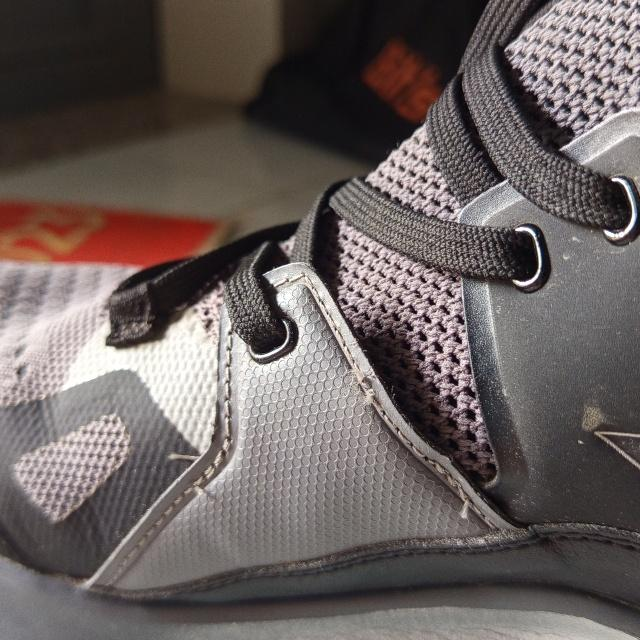broken: (349, 368, 376, 404)
